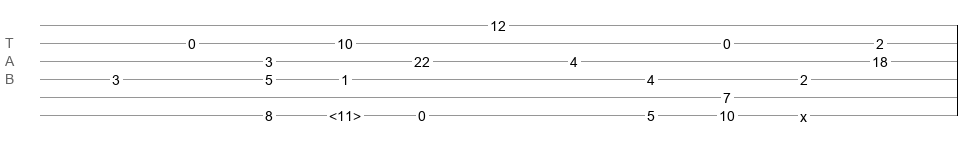0: (188, 36, 196, 46), (418, 108, 426, 118), (723, 36, 731, 46)
1: (341, 72, 349, 82)
10: (337, 36, 353, 46), (719, 108, 735, 118)
12: (490, 18, 506, 28)
18: (872, 54, 888, 64)
2: (800, 72, 808, 82), (876, 36, 884, 46)
22: (414, 54, 430, 64)
3: (112, 72, 120, 82), (265, 54, 273, 64)
4: (570, 54, 578, 64), (647, 72, 655, 82)
5: (265, 72, 273, 82), (647, 108, 655, 118)
7: (723, 90, 731, 100)
8: (265, 108, 273, 118)
harmonic: (329, 108, 361, 118)
x: (800, 109, 807, 117)
